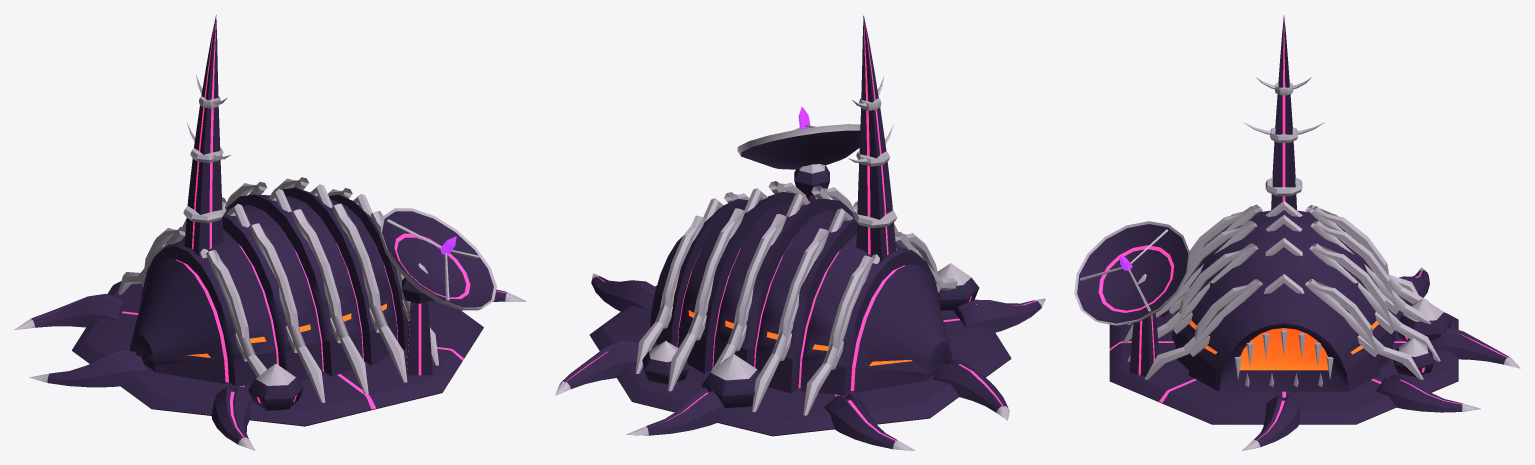
File: alien_city_c.glb
3 renders of one model, left to right at view 1: azimuth 30°, elevation 25°; view 2: azimuth 150°, elevation 25°; view 3: azimuth 270°, elevation 25°, orthographic. The views are drawn at different scales.
Parts seen in each view (by area): view 1: AlienCityC; view 2: AlienCityC; view 3: AlienCityC.
Boxes of the visible parts, x1,y1,x2,y2 form: AlienCityC: (14, 15, 525, 450); AlienCityC: (555, 15, 1045, 450); AlienCityC: (1074, 15, 1520, 450).
Size of the model in its own units: 38.78 by 28 by 36.58.
